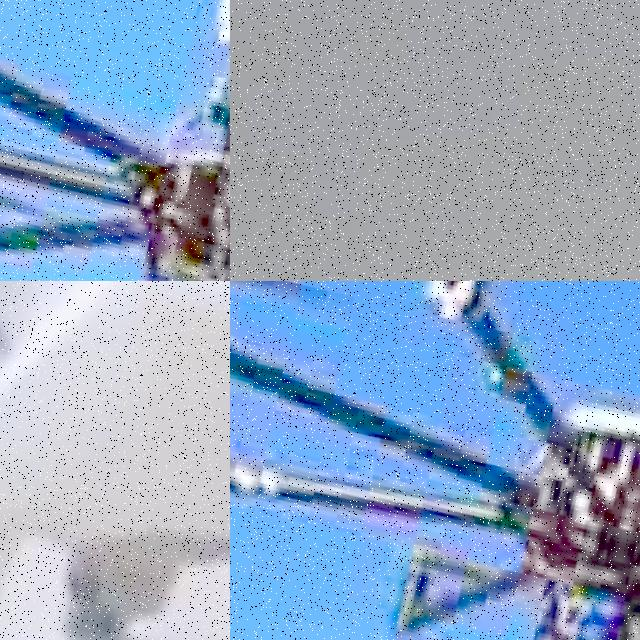drone: (230, 281, 640, 640), (0, 281, 230, 640), (0, 0, 230, 281)
